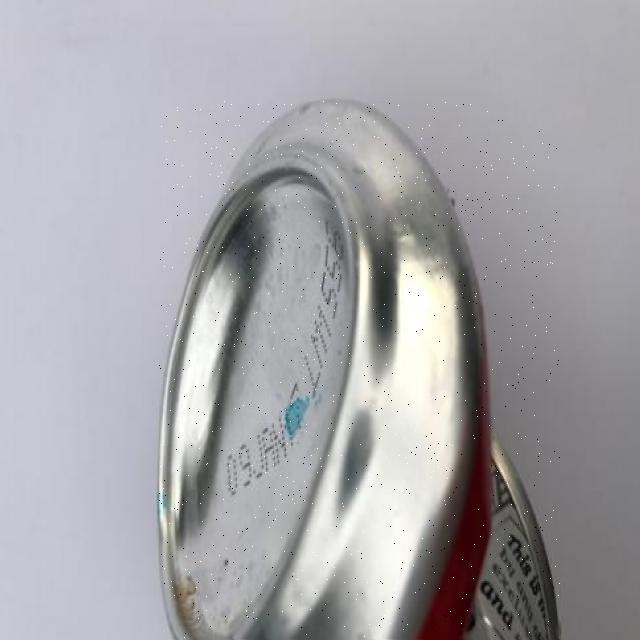metal: (160, 102, 560, 639)
